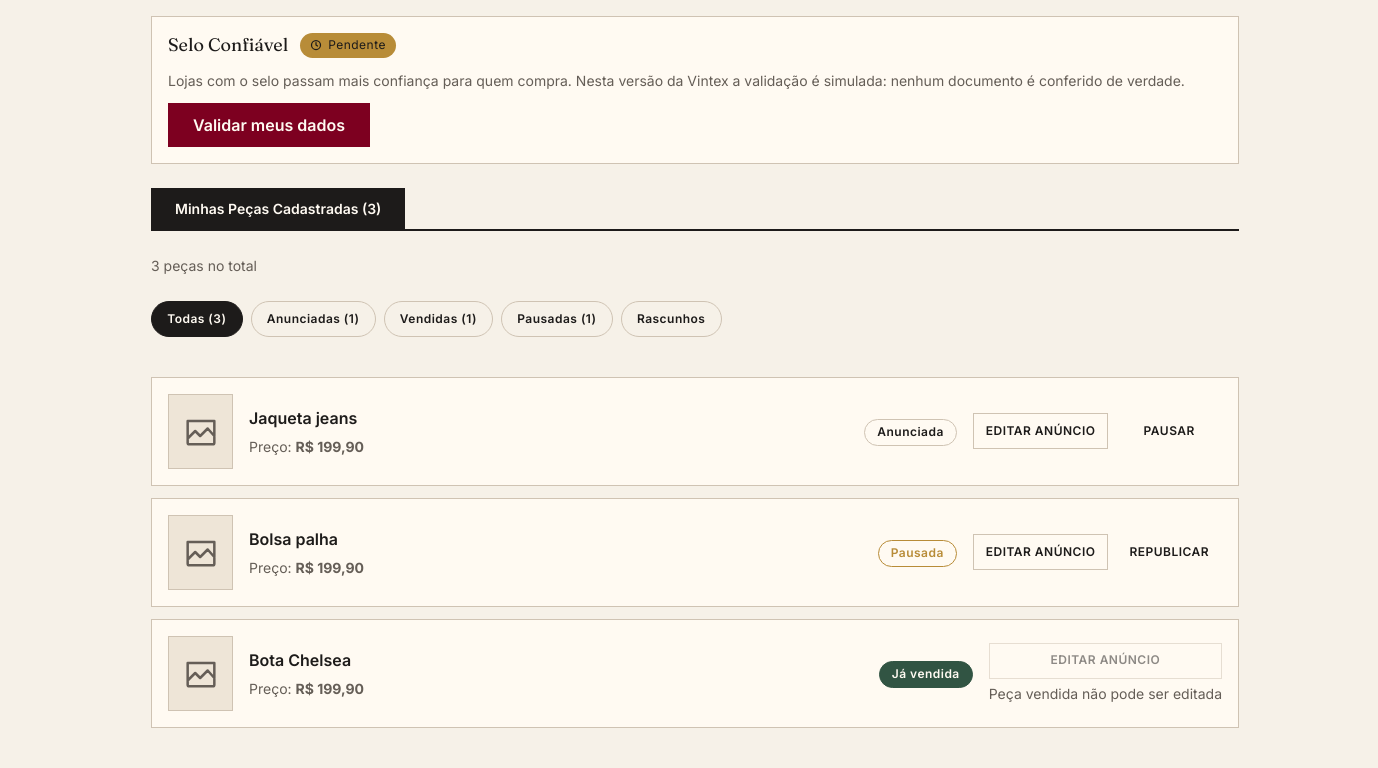
Test case: <SellerAdmin /> › ações por peça (FE-US019-2) › Editar leva ao formulário da peça
(page scrolled)
Check: the button "Jaqueta jeans" is shown, box [249,405,357,432]
Click the 1st button "Editar anúncio" at (1041, 431), box [973,413,1108,449]
(page scrolled)
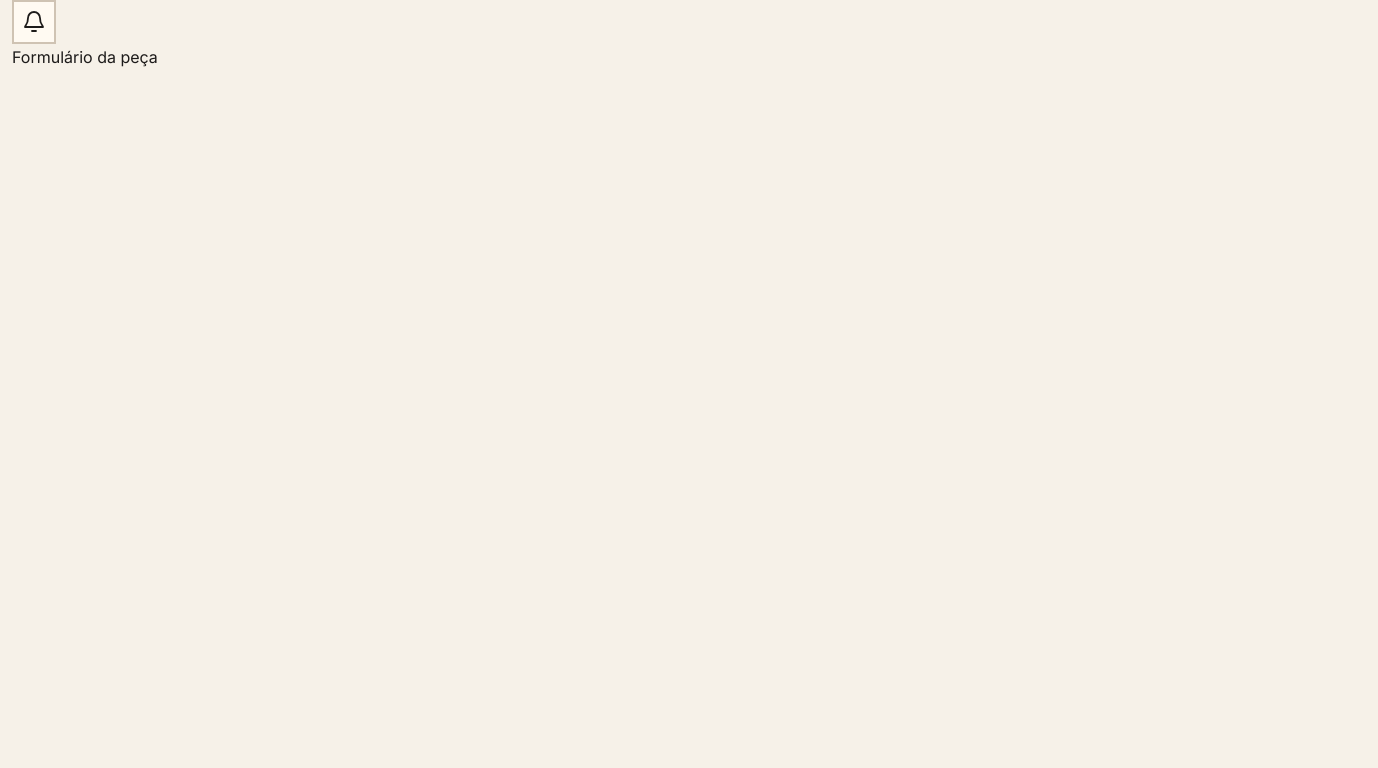
Check: the heading "Formulário da peça" is shown, box [12,47,158,67]
